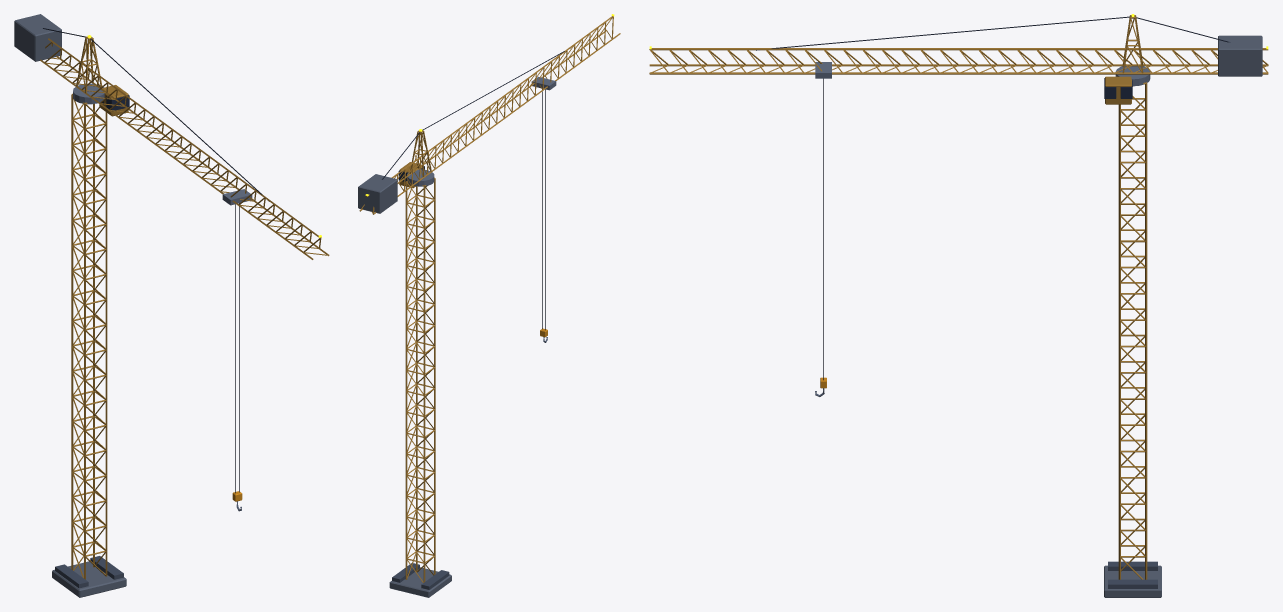
Rendered from build_tower_crane.glb.
3 views of the same model, side by side, from view 1: azimuth 30°, elevation 25°; view 2: azimuth 150°, elevation 25°; view 3: azimuth 270°, elevation 25° (orthographic). The views are drawn at different scales.
Visible parts, largest first — view 1: crane_paint, concrete_raw_cast, cable, machine, concrete; view 2: crane_paint, concrete_raw_cast, cable, machine, concrete; view 3: crane_paint, concrete_raw_cast, cable, concrete.
Boxes of the visible parts, box(x1,y1,x2,y2) form: crane_paint: box(40, 36, 329, 579); concrete_raw_cast: box(14, 14, 126, 597); cable: box(43, 28, 269, 493); machine: box(73, 83, 252, 205); concrete: box(55, 556, 123, 588); crane_paint: box(359, 16, 620, 582); concrete_raw_cast: box(358, 174, 451, 597); cable: box(382, 48, 570, 330); machine: box(407, 76, 556, 186); concrete: box(392, 563, 449, 589); crane_paint: box(649, 15, 1268, 579); concrete_raw_cast: box(1104, 35, 1262, 597); cable: box(756, 16, 1230, 380); concrete: box(1108, 561, 1157, 588).
Bounding box in the file's own units: 6.33 × 65.25 × 64.1.
